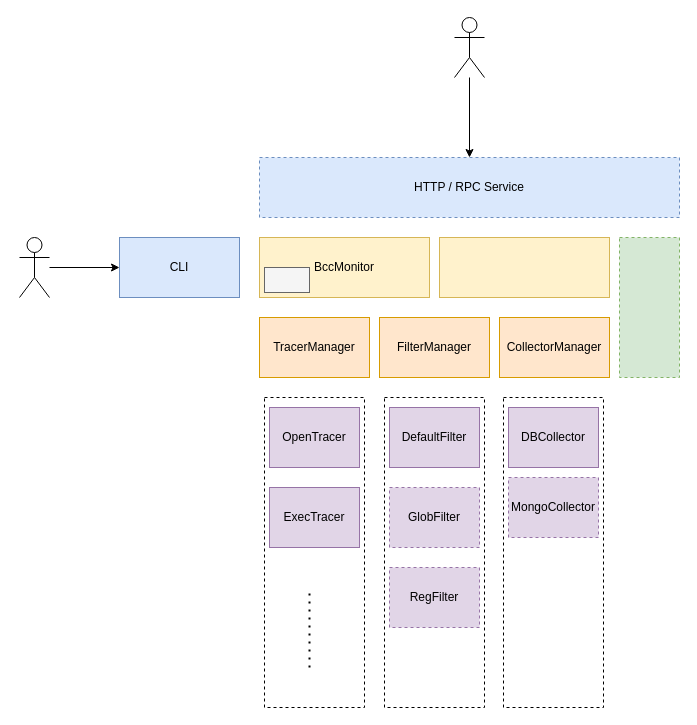
The diagram is 697 pixels wide and 725 high, and some of its shapes have lost their labels. Each missing label, with the centre of its shape:
"Admin" belongs at point 34,267.
"Analyzer" belongs at point 649,307.
"bcc" belongs at point 287,279.
"PEP" belongs at point 469,47.
"ShMonitor" belongs at point 524,267.
